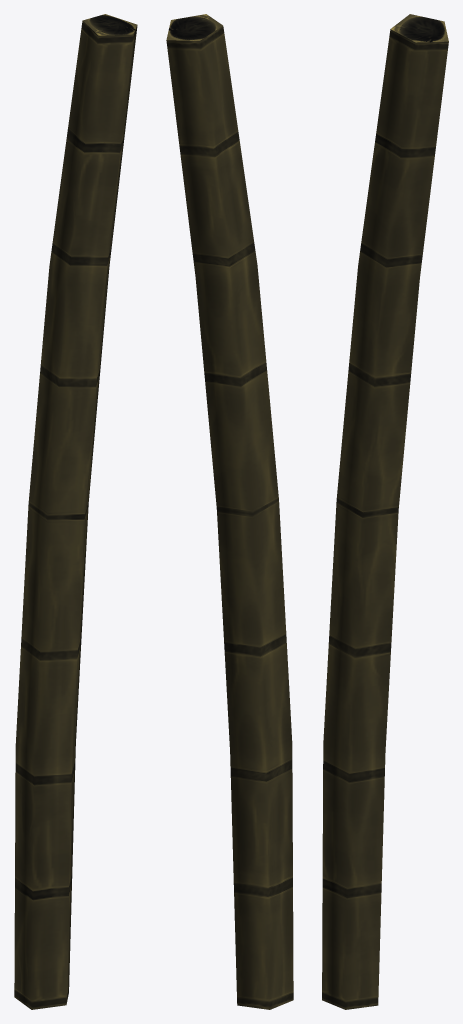
File: bamboo_house_roof_part.FBX
The picture shows the model from 3 angles, left to right: view 1: azimuth 30°, elevation 25°; view 2: azimuth 210°, elevation 25°; view 3: azimuth 330°, elevation 25°; orthographic projection. The views are drawn at different scales.
Parts seen in each view (by area): view 1: bamboo_house_roof_part; view 2: bamboo_house_roof_part; view 3: bamboo_house_roof_part.
Part boxes in pixels (x1,y1,x2,y2): bamboo_house_roof_part: (14, 14, 137, 1009); bamboo_house_roof_part: (166, 14, 293, 1009); bamboo_house_roof_part: (322, 14, 448, 1009).
Size of the model in its own units: 59.66 by 478 by 27.87.
